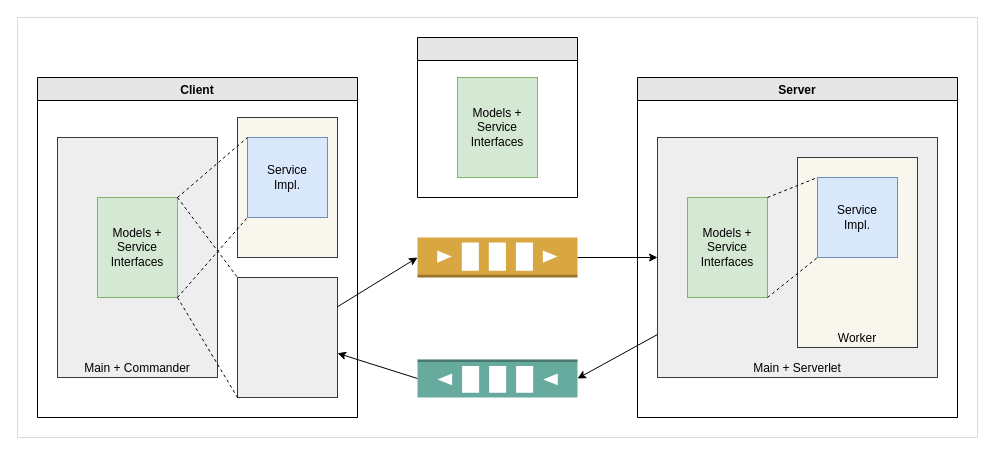
Some shapes in this 995 by 455 pixel diagram are drawn without their labels. The box of each missing label's shape, as (x1, y1, x2, y2) in pixels:
Callback Queue: (416, 358, 578, 398)
Common: (416, 36, 578, 198)
Dispatch Queue: (416, 236, 578, 278)
Reserve Worker: (236, 116, 338, 258)
Service Invocator: (236, 276, 338, 398)
